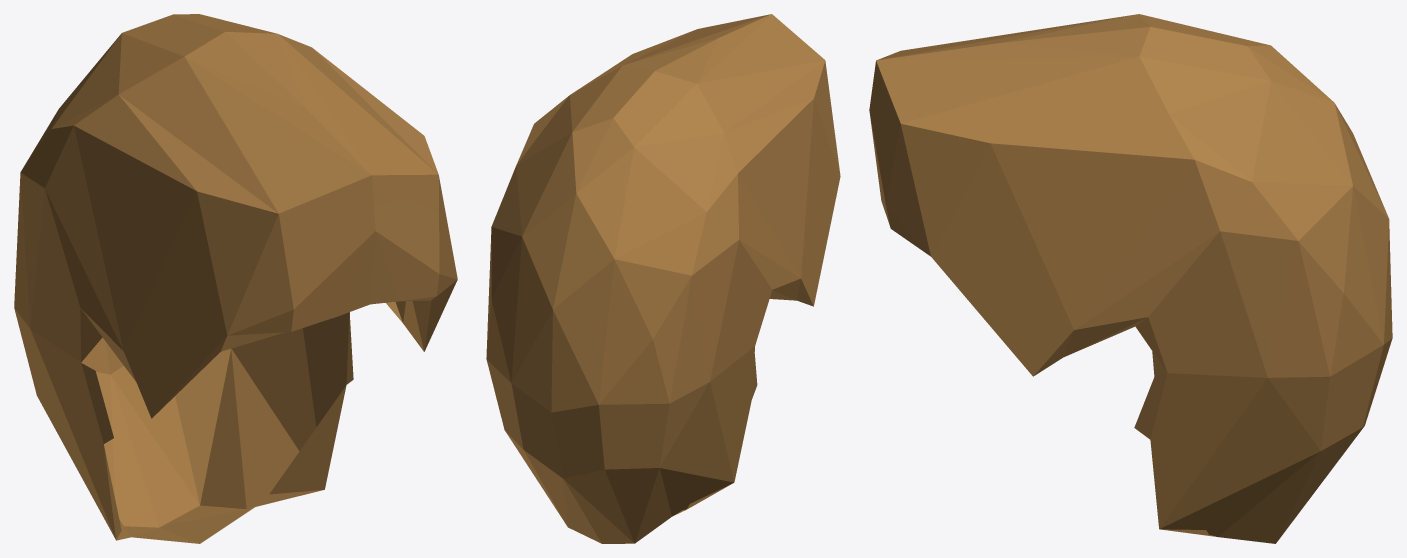
File: VikingBoy_Hair.fbx
The picture shows the model from 3 angles, left to right: view 1: azimuth 30°, elevation 25°; view 2: azimuth 150°, elevation 25°; view 3: azimuth 270°, elevation 25°; orthographic projection. The views are drawn at different scales.
Parts seen in each view (by area): view 1: VikingBoy_Hair; view 2: VikingBoy_Hair; view 3: VikingBoy_Hair.
Boxes of the visible parts, x1,y1,x2,y2 form: VikingBoy_Hair: (14, 14, 457, 543); VikingBoy_Hair: (486, 14, 840, 543); VikingBoy_Hair: (869, 14, 1392, 543).
Bounding box in the file's own units: 12.4 × 22.08 × 20.59.
